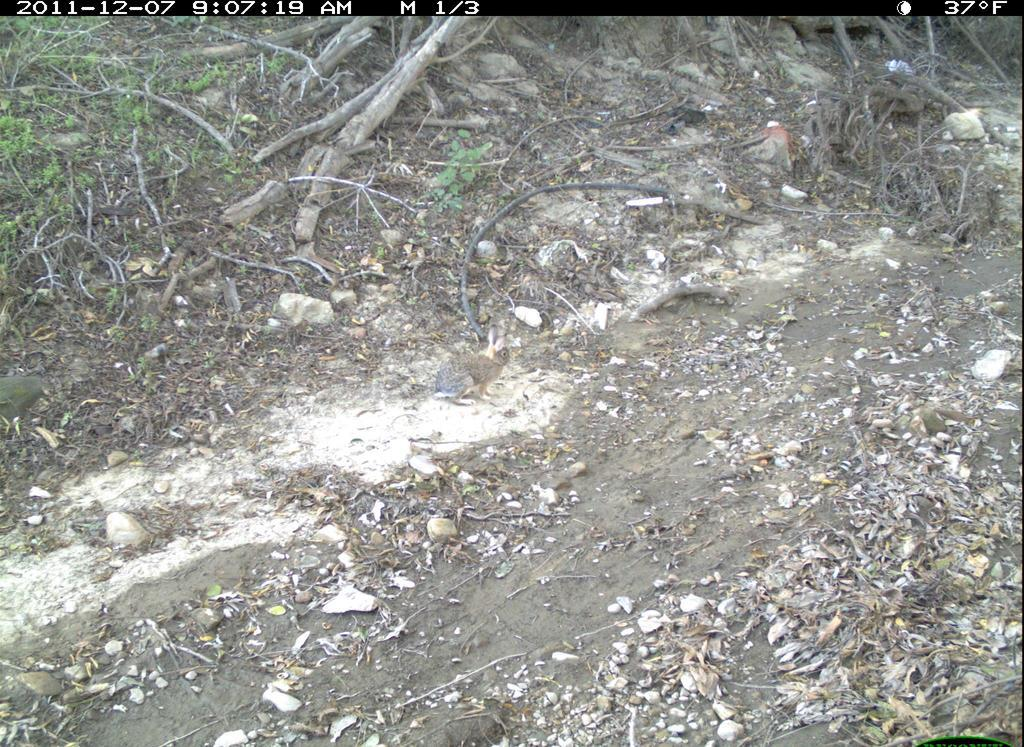rabbit: (430, 322, 518, 414)
